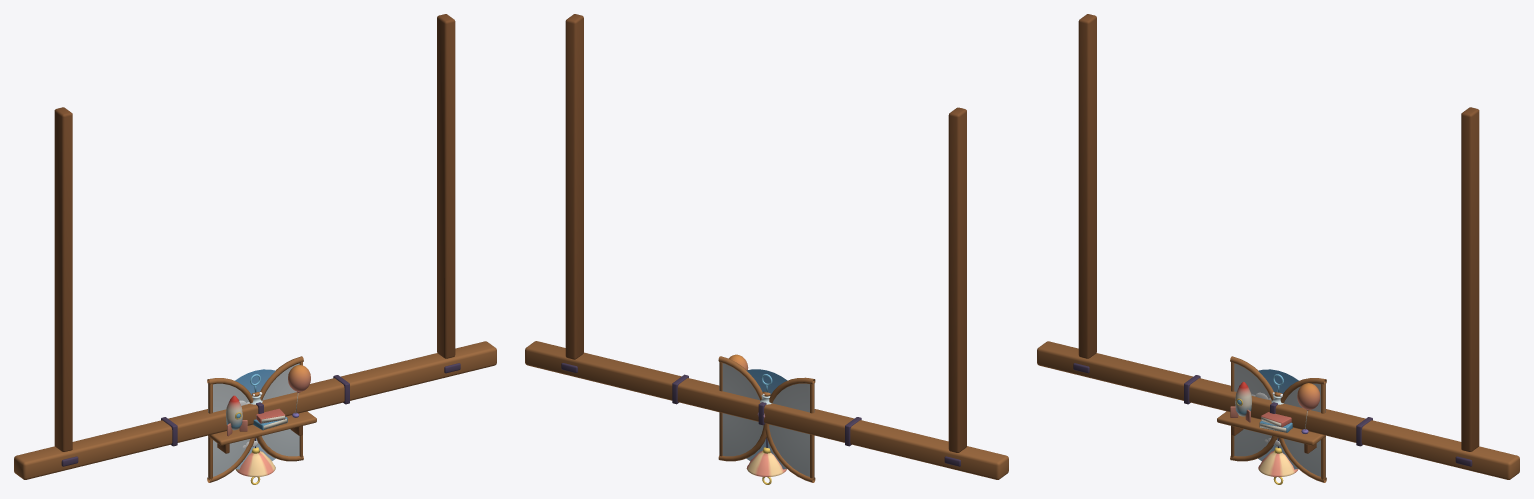
Rendered from lab_float.glb.
3 renders of one model, left to right at view 1: azimuth 30°, elevation 25°; view 2: azimuth 150°, elevation 25°; view 3: azimuth 330°, elevation 25°, orthographic.
Parts seen in each view (by area): view 1: beam, shelf, win_R, win_L, lamp, win_sky; view 2: beam, win_R, win_L, lamp, win_sky; view 3: beam, shelf, win_R, win_L, win_sky, lamp.
Part boxes in pixels (x1=…): beam: x1=14, y1=14, x2=496, y2=479; shelf: x1=208, y1=365, x2=316, y2=453; win_R: x1=207, y1=378, x2=255, y2=482; win_L: x1=256, y1=356, x2=303, y2=461; lamp: x1=235, y1=437, x2=275, y2=484; win_sky: x1=235, y1=369, x2=275, y2=469; beam: x1=525, y1=14, x2=1008, y2=479; win_R: x1=765, y1=377, x2=815, y2=482; win_L: x1=718, y1=356, x2=766, y2=461; lamp: x1=746, y1=437, x2=786, y2=484; win_sky: x1=746, y1=369, x2=787, y2=469; beam: x1=1037, y1=14, x2=1519, y2=479; shelf: x1=1217, y1=382, x2=1325, y2=453; win_R: x1=1230, y1=356, x2=1277, y2=461; win_L: x1=1278, y1=378, x2=1326, y2=482; win_sky: x1=1251, y1=369, x2=1298, y2=469; lamp: x1=1258, y1=437, x2=1298, y2=484.
Size of the model in its own units: 8.8 by 7.46 by 0.765.
